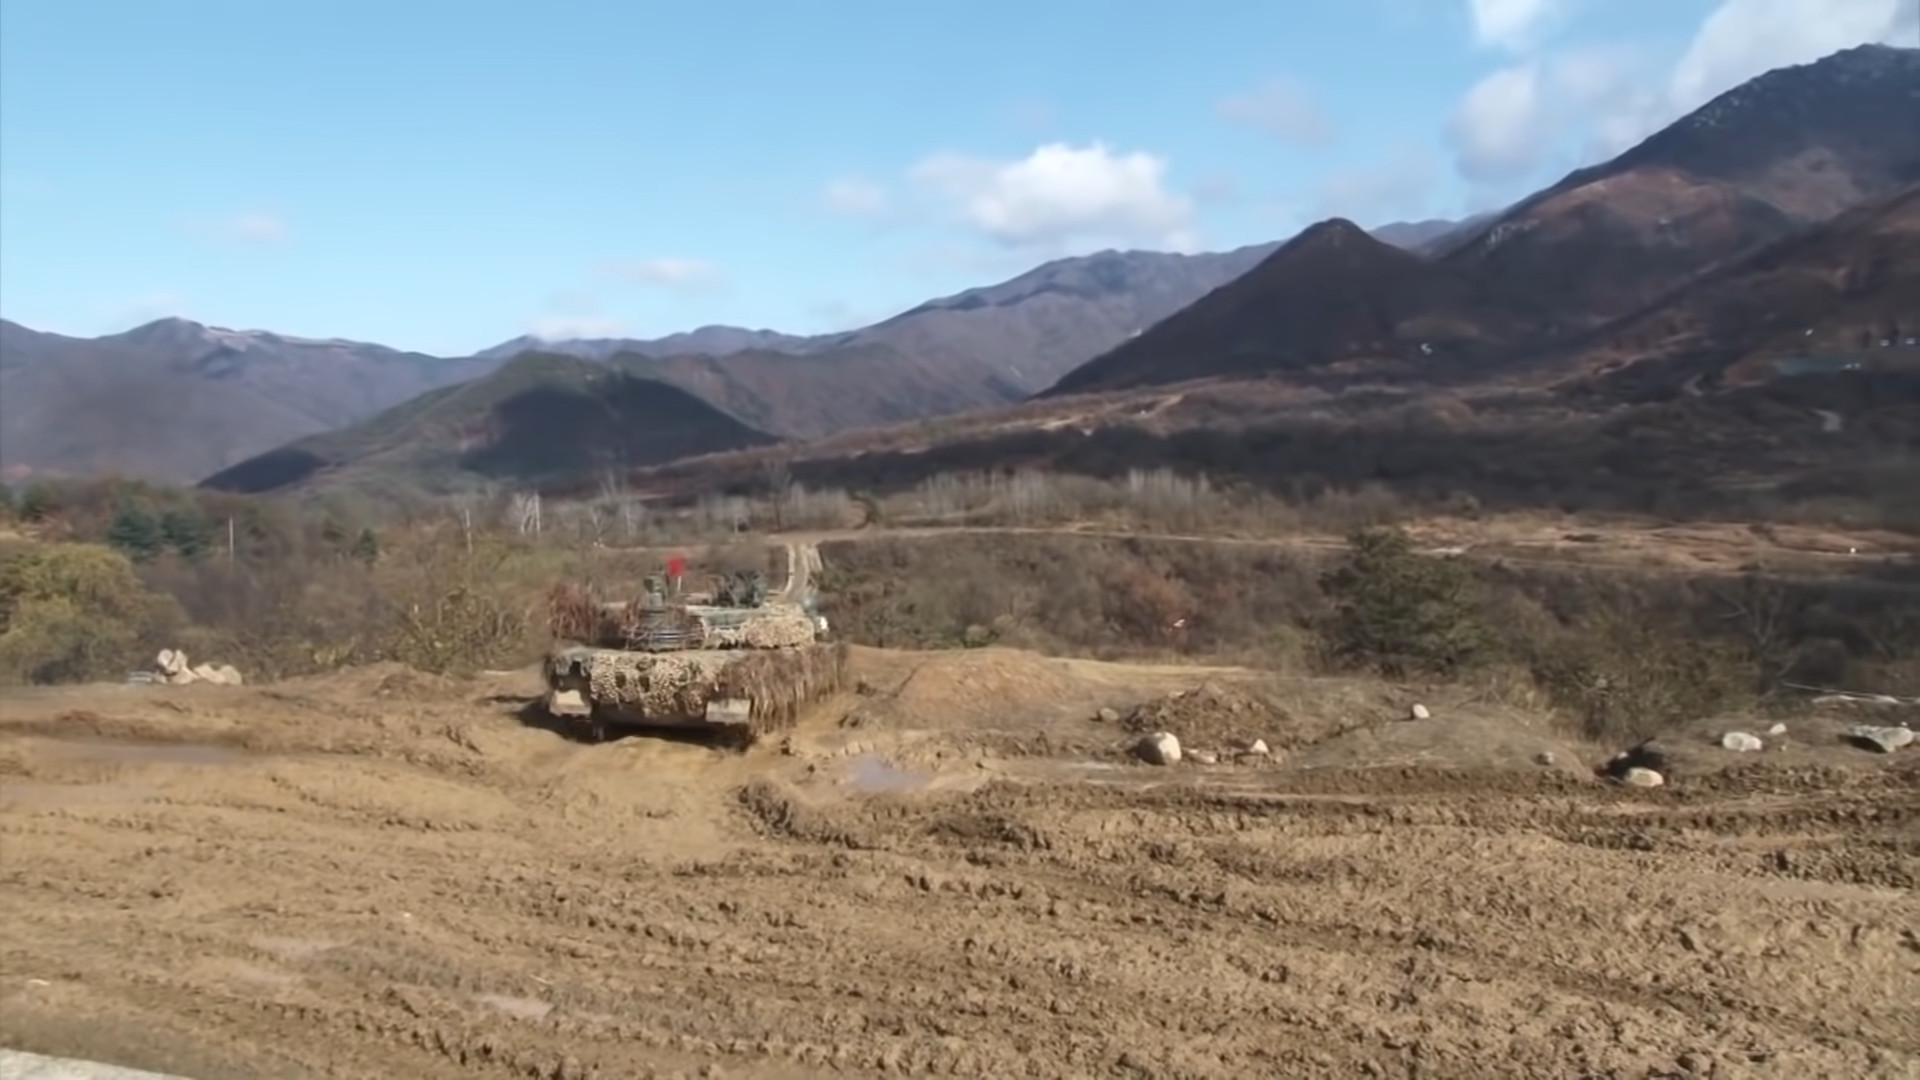tank: (543, 560, 845, 745)
